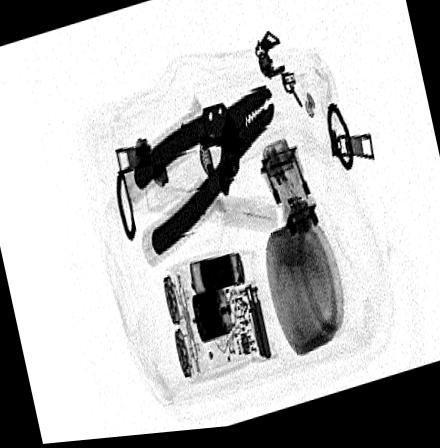Pliers: (129, 86, 274, 265)
